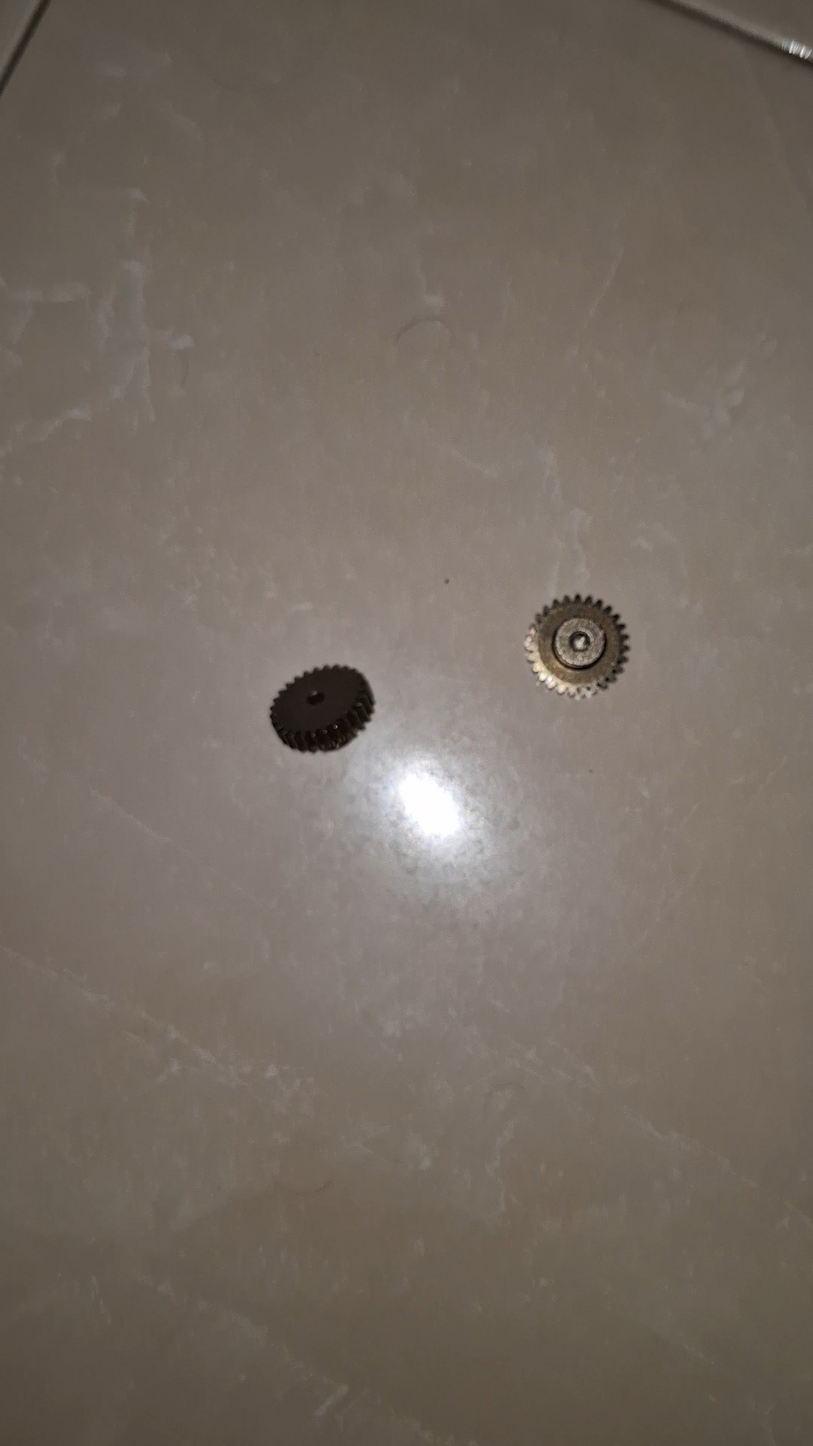spur gear: (525, 595, 628, 698), (270, 666, 373, 751)
